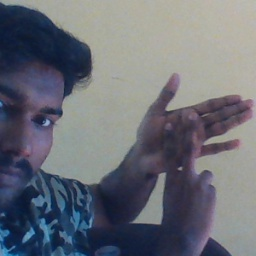N: (130, 71, 256, 206)
